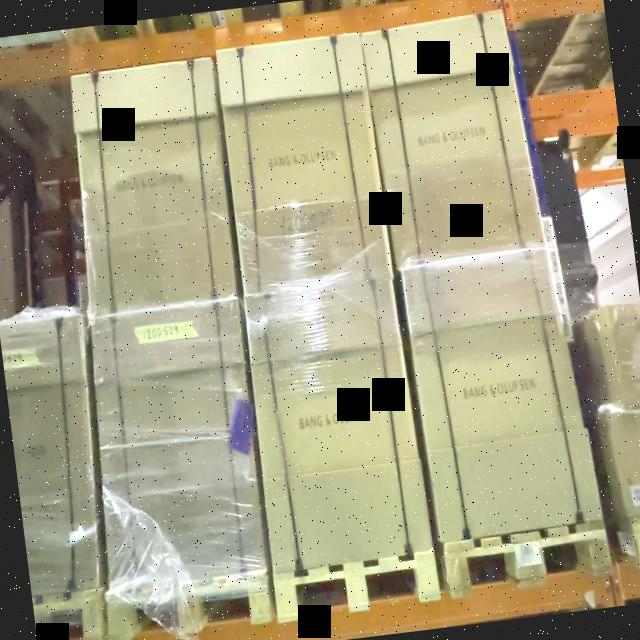box: (402, 251, 601, 542), (244, 276, 429, 566), (91, 301, 263, 586), (362, 11, 548, 268), (219, 33, 392, 295), (72, 57, 236, 317)
